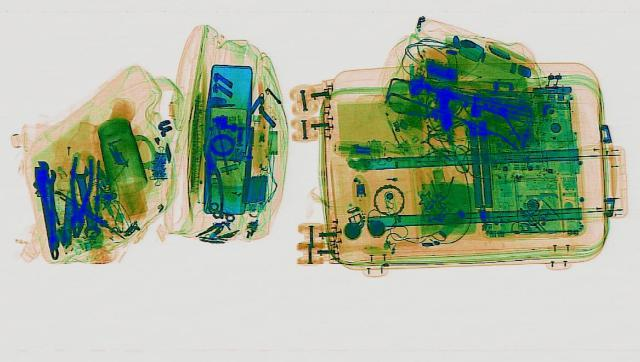Pliers: (63, 154, 93, 236)
Wrench: (68, 162, 100, 236), (38, 169, 64, 257)
